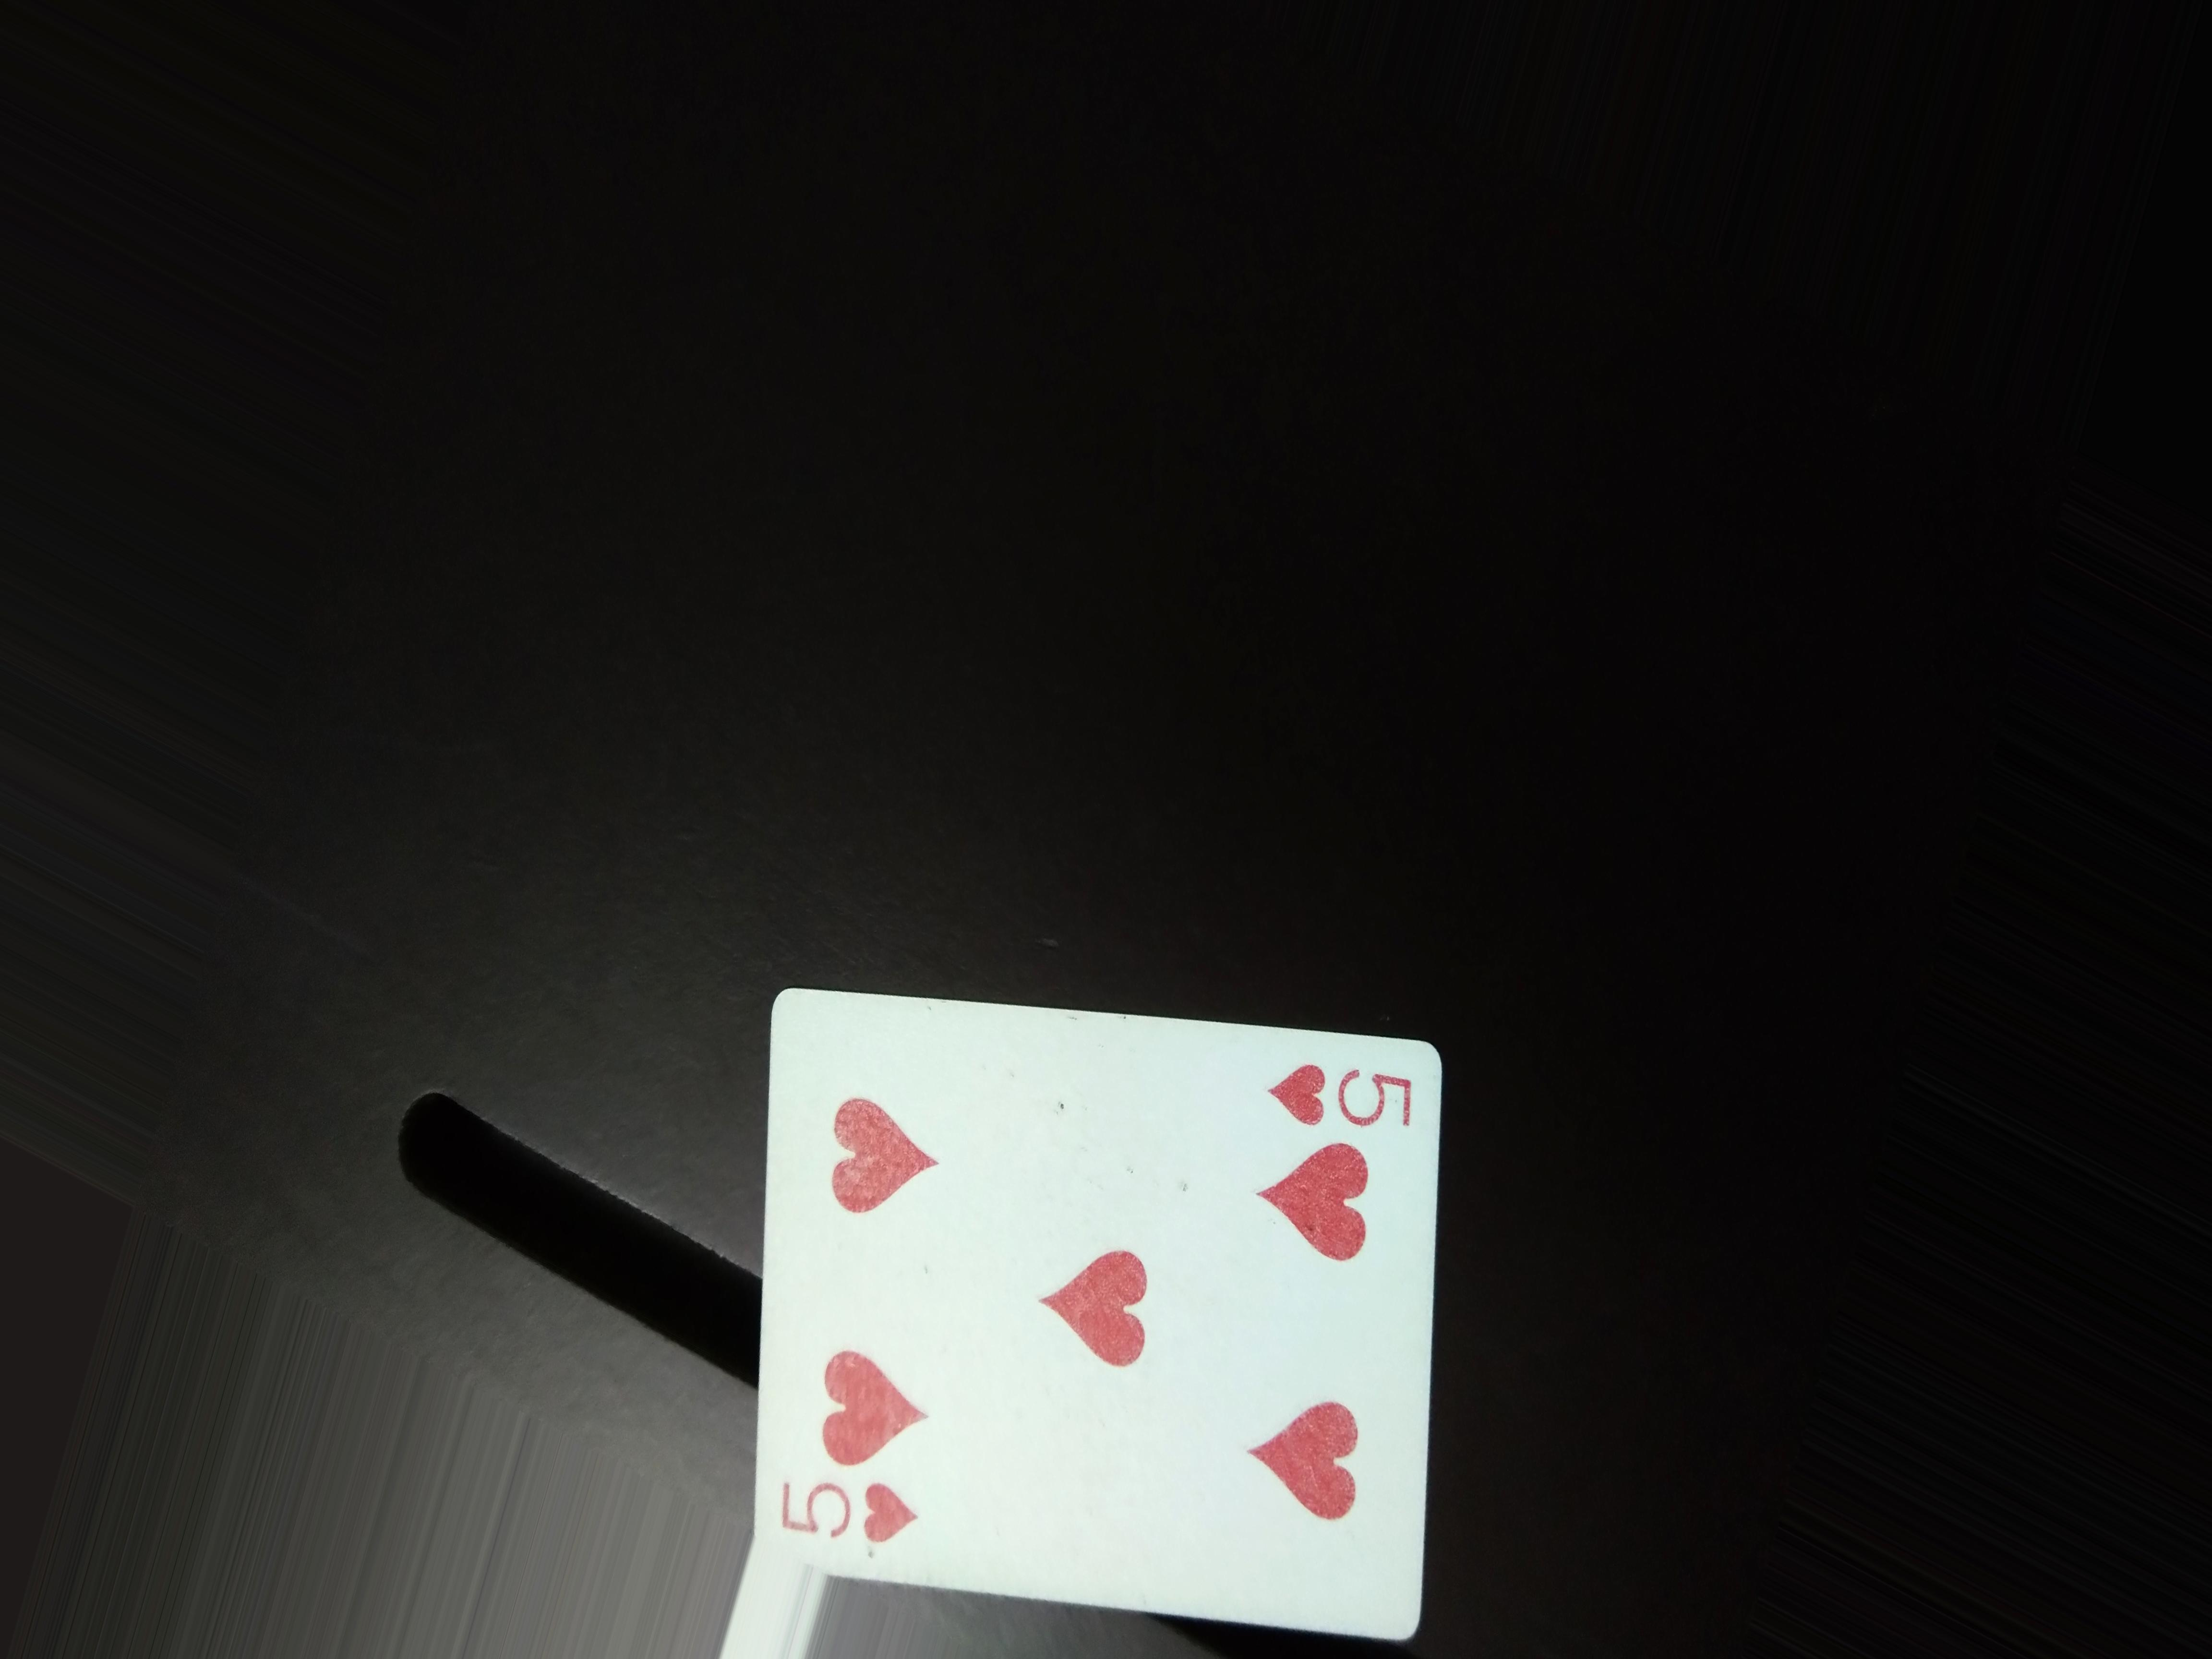5H: (1259, 1053, 1428, 1147)
